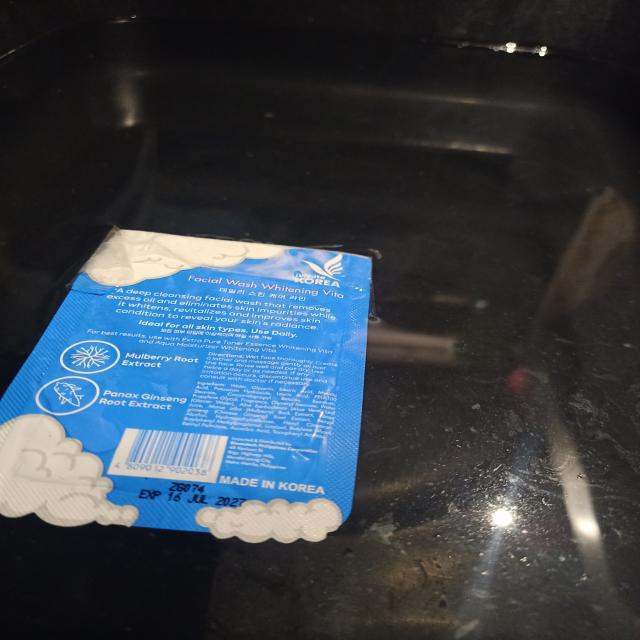Plastic Wrapper: (0, 228, 371, 542), (176, 366, 180, 369)
